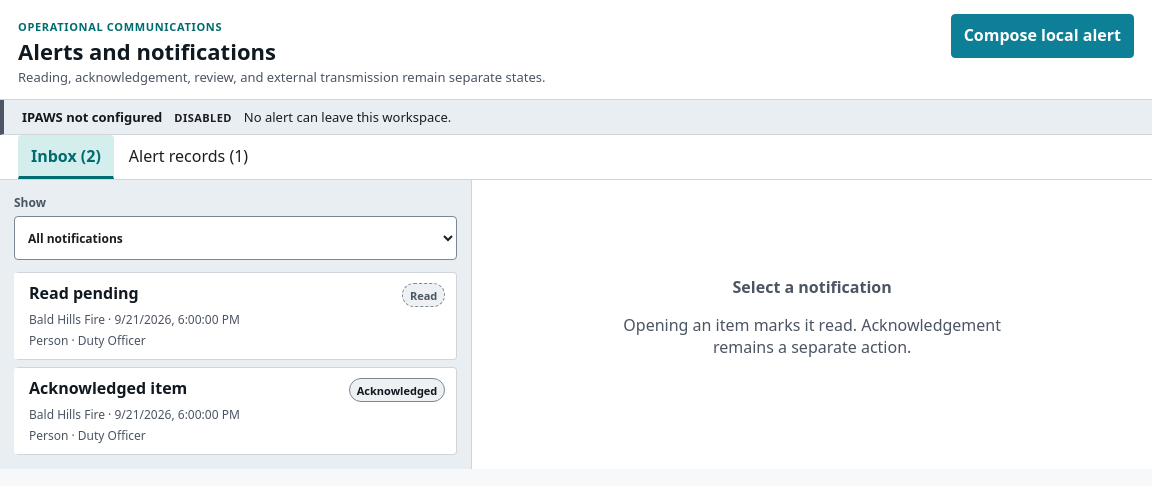
Test: notification states › filters acknowledgement-pending items independently from unread state
Expected: the text "Read pending" is shown, x1=29 y1=283 x2=139 y2=305
Step 1. Select "Acknowledgement pending" in the dropdown labelled "Show" → [236, 238], box x1=14 y1=216 x2=457 y2=260
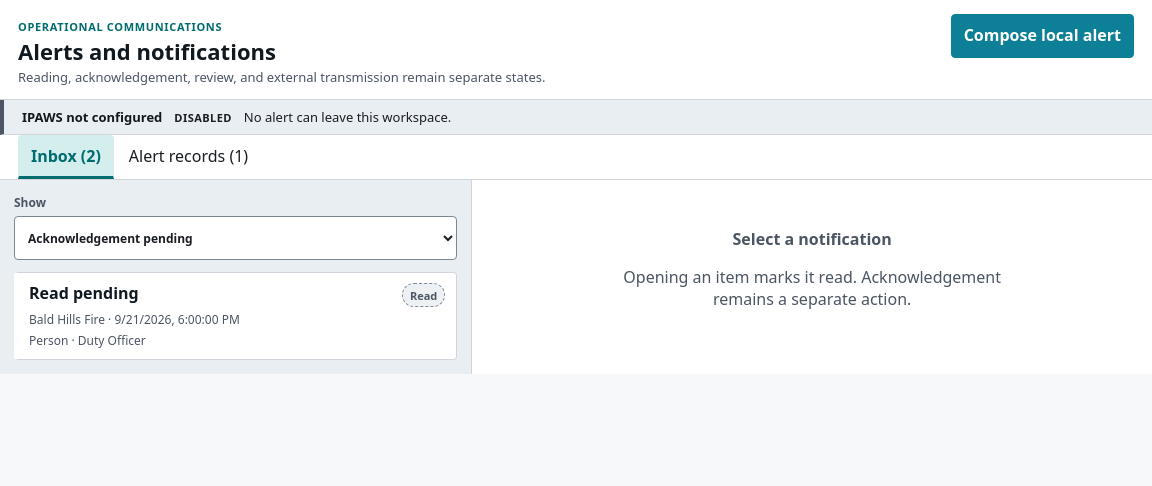
Expected: the text "Read pending" is shown, x1=29 y1=283 x2=139 y2=305
Result: the button "Acknowledged item" is gone
